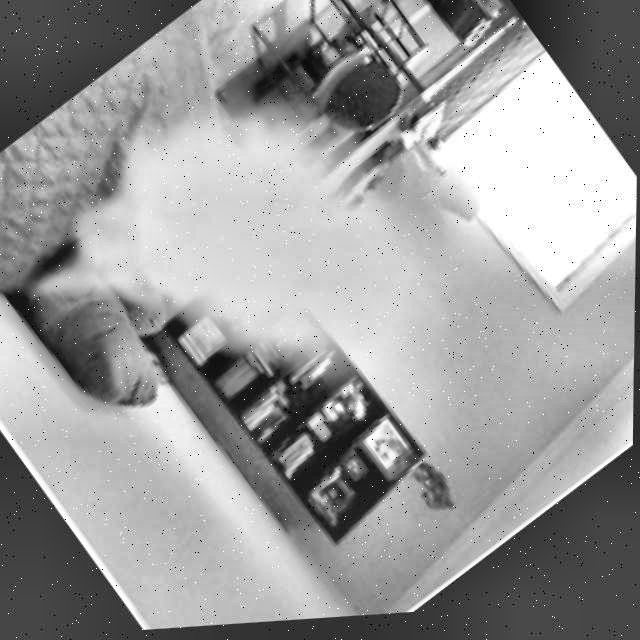Smoke: (0, 8, 489, 536)
